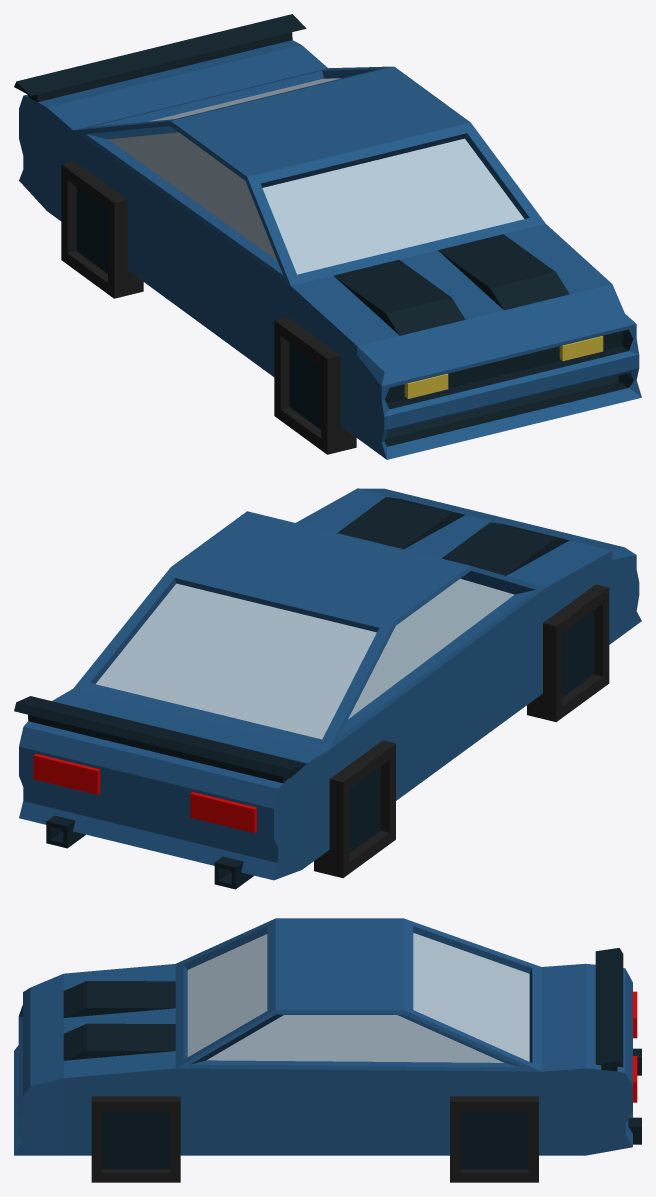
The model's file is car_9.fbx.
The picture shows the model from 3 angles, top to bottom: view 1: azimuth 30°, elevation 25°; view 2: azimuth 150°, elevation 25°; view 3: azimuth 270°, elevation 25°; orthographic projection. The views are drawn at different scales.
Visible parts, largest first — view 1: Cube; view 2: Cube; view 3: Cube.
Part boxes in pixels (box(x1,y1,x2,y2)): Cube: box(14, 14, 641, 459); Cube: box(14, 488, 641, 889); Cube: box(14, 918, 641, 1182).
Bounding box in the file's own units: 149 × 96.18 × 341.
